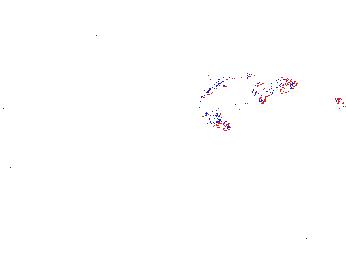red belly glassfish: (197, 105, 233, 133), (333, 94, 346, 115)
redtail glassfish: (200, 72, 299, 102)
